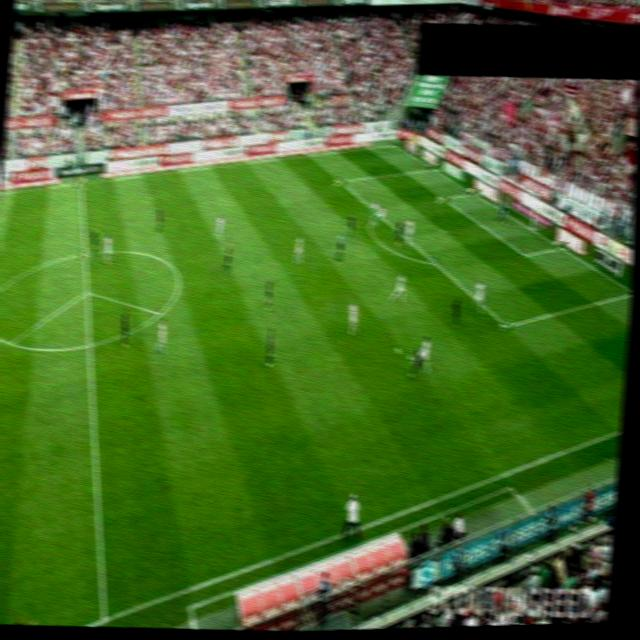bigarea_bottom_inner: (499, 319, 514, 332)
bigarea_bottom_outter: (626, 284, 632, 299)
bigarea_top_inner: (334, 174, 348, 186)
bigarea_top_outter: (426, 162, 442, 176)
bottom_arc_area_intersection: (427, 255, 442, 268)
corner: (386, 138, 402, 152)
halfcircle_bottom: (80, 338, 98, 352)
halfcircle_top: (78, 248, 92, 260)
midline_bottom_intersection: (90, 607, 118, 627)
midline_top_intersection: (72, 176, 88, 190)
smallarea_bottom_inner: (518, 247, 534, 260)
smallarea_bottom_outter: (553, 240, 568, 253)
smallarea_top_inner: (436, 190, 451, 204)
smallarea_top_outter: (467, 188, 482, 200)
top_arc_area_intersection: (371, 207, 386, 221)
